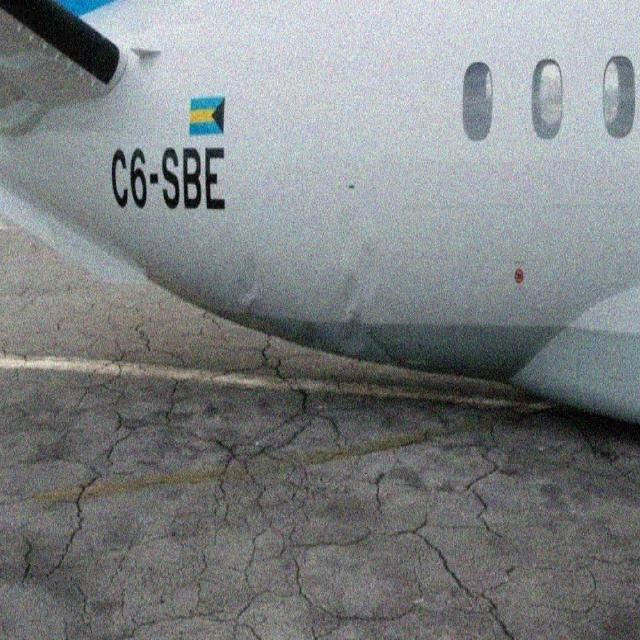dent: (342, 238, 390, 365), (238, 244, 270, 301)
